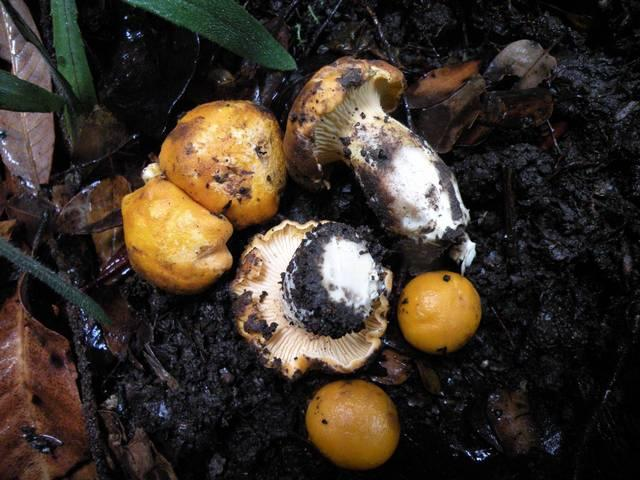edible_mushroom: (282, 55, 477, 272), (228, 217, 393, 380), (157, 98, 286, 228), (119, 174, 233, 294), (304, 378, 400, 470), (396, 269, 482, 355)
